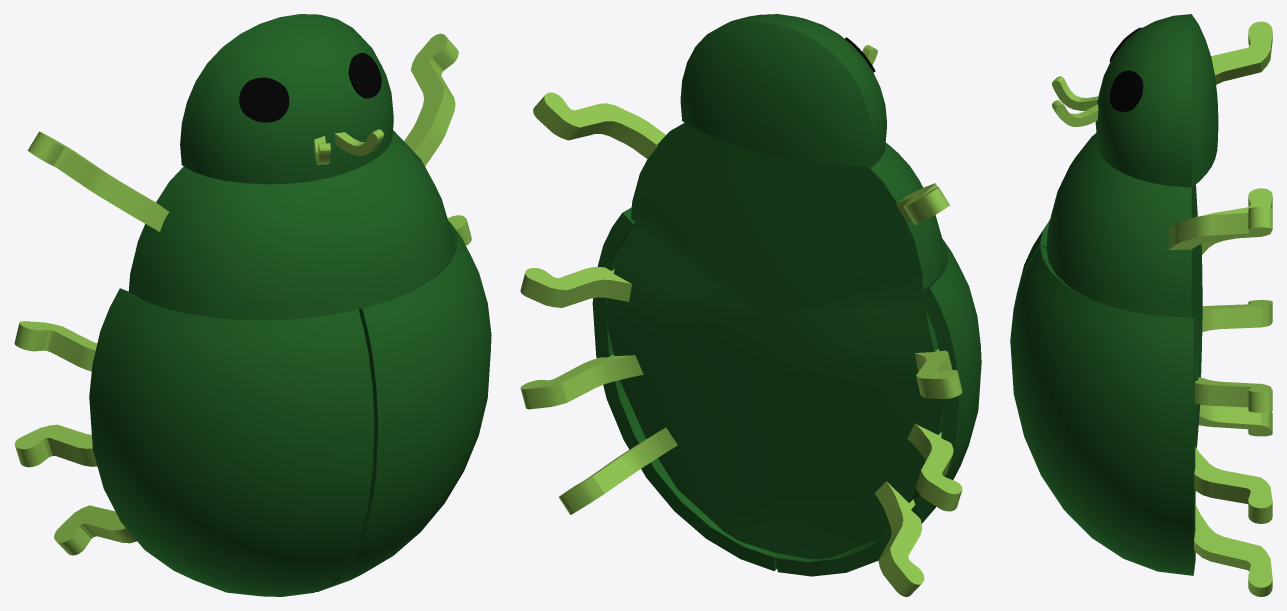
File: beetle.fbx
The picture shows the model from 3 angles, left to right: view 1: azimuth 30°, elevation 25°; view 2: azimuth 150°, elevation 25°; view 3: azimuth 270°, elevation 25°; orthographic projection. The views are drawn at different scales.
Visible parts, largest first — view 1: Sphere.384, Cube.138, Cube.139, Cube.141, Circle.1998, Cube.140; view 2: Cube.138, Cube.139, Cube.141, Sphere.384; view 3: Sphere.384, Cube.138, Cube.141, Cube.139, Cube.140, Circle.1998.
Part boxes in pixels (bbox=[...]): Sphere.384: bbox=[89, 220, 491, 596]; Cube.138: bbox=[128, 130, 451, 320]; Cube.139: bbox=[180, 14, 393, 184]; Cube.141: bbox=[14, 33, 471, 555]; Circle.1998: bbox=[239, 52, 381, 122]; Cube.140: bbox=[314, 129, 384, 164]; Cube.138: bbox=[604, 122, 944, 559]; Cube.139: bbox=[680, 14, 886, 167]; Cube.141: bbox=[520, 92, 962, 596]; Sphere.384: bbox=[592, 207, 981, 576]; Sphere.384: bbox=[1010, 220, 1195, 575]; Cube.138: bbox=[1046, 133, 1202, 448]; Cube.141: bbox=[1168, 21, 1272, 596]; Cube.139: bbox=[1095, 14, 1218, 187]; Cube.140: bbox=[1052, 76, 1098, 126]; Circle.1998: bbox=[1109, 27, 1143, 111].
Size of the model in its own units: 185 by 220 by 98.38.
Materials: 1 (1 with a texture image).
